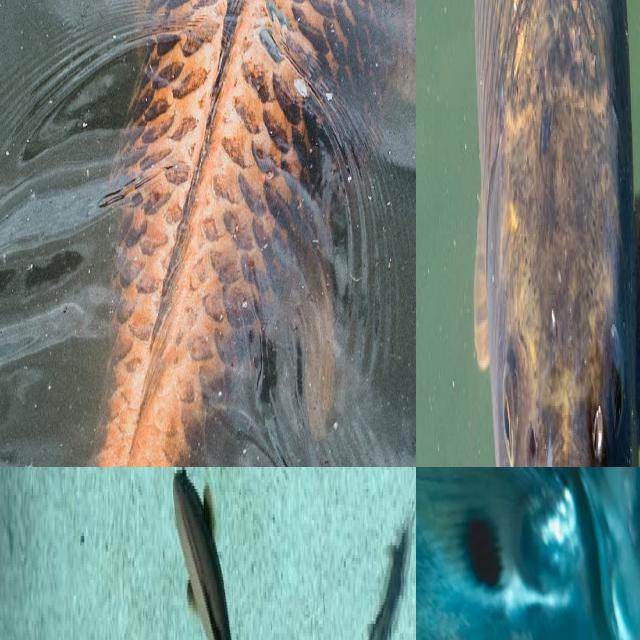fish: (0, 0, 416, 467), (416, 0, 640, 467), (507, 467, 640, 640), (169, 467, 249, 640)
